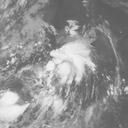cyclone: (48, 40, 89, 87)
